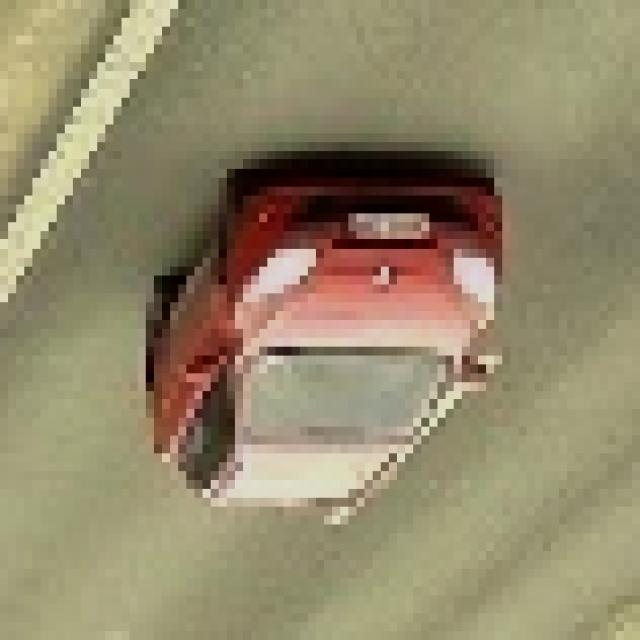red: (139, 155, 508, 518)
